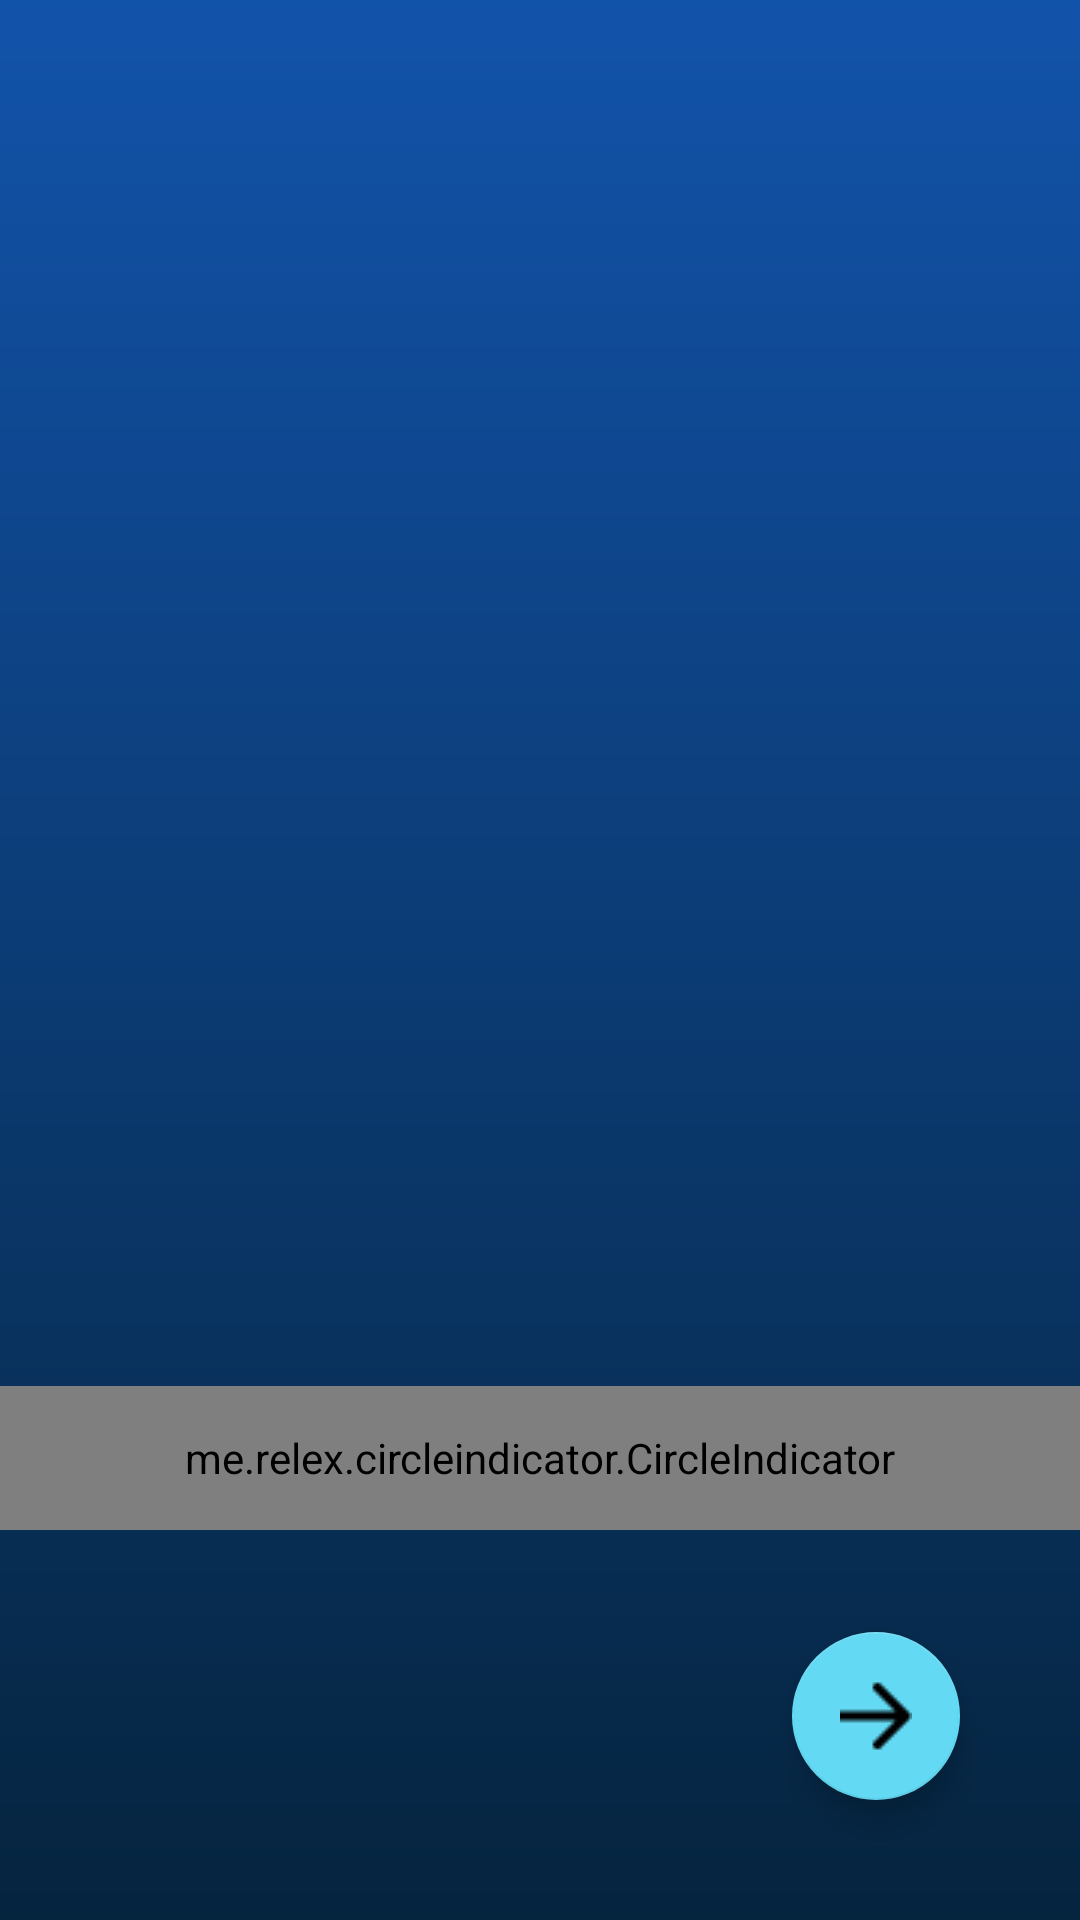

Icons on this 1080x1920 Android screen, each with its box as (left=x1, top=y1, right=x2, bottom=y2):
next: (left=792, top=1632, right=960, bottom=1800)
